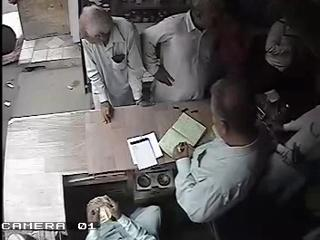Normal: (172, 77, 278, 232), (142, 0, 228, 104), (78, 5, 148, 125), (85, 192, 157, 240), (158, 110, 207, 160)
